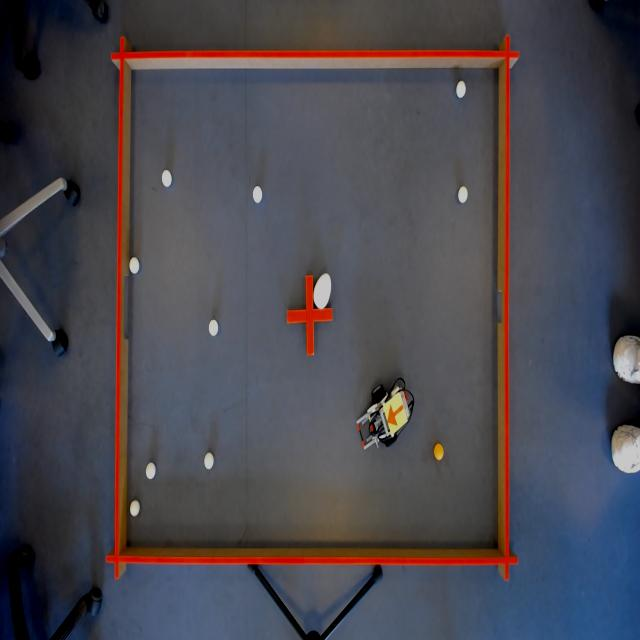cross: (287, 273, 332, 357)
egg: (312, 271, 332, 310)
orange_ball: (433, 439, 445, 463)
robot: (380, 391, 410, 441)
white_ball: (128, 251, 141, 277), (202, 448, 216, 472), (128, 497, 142, 521), (250, 184, 264, 208), (145, 458, 157, 484), (454, 76, 467, 100), (161, 167, 174, 189), (458, 182, 470, 205), (208, 316, 219, 341)
